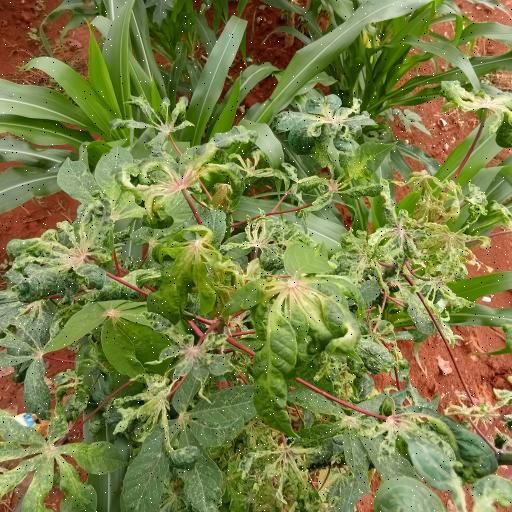Cassava_Mosaic: (226, 270, 363, 434), (0, 393, 118, 511), (7, 201, 106, 291), (153, 224, 222, 316), (280, 93, 377, 154)
